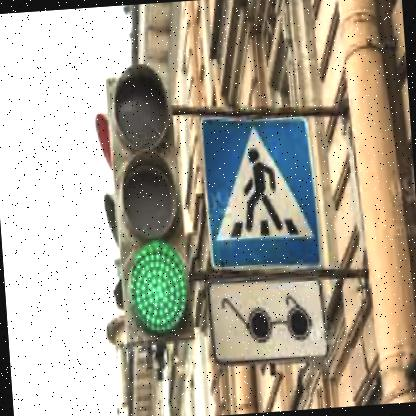crosswalk: (201, 106, 323, 270)
trafficlight: (104, 58, 196, 346)
